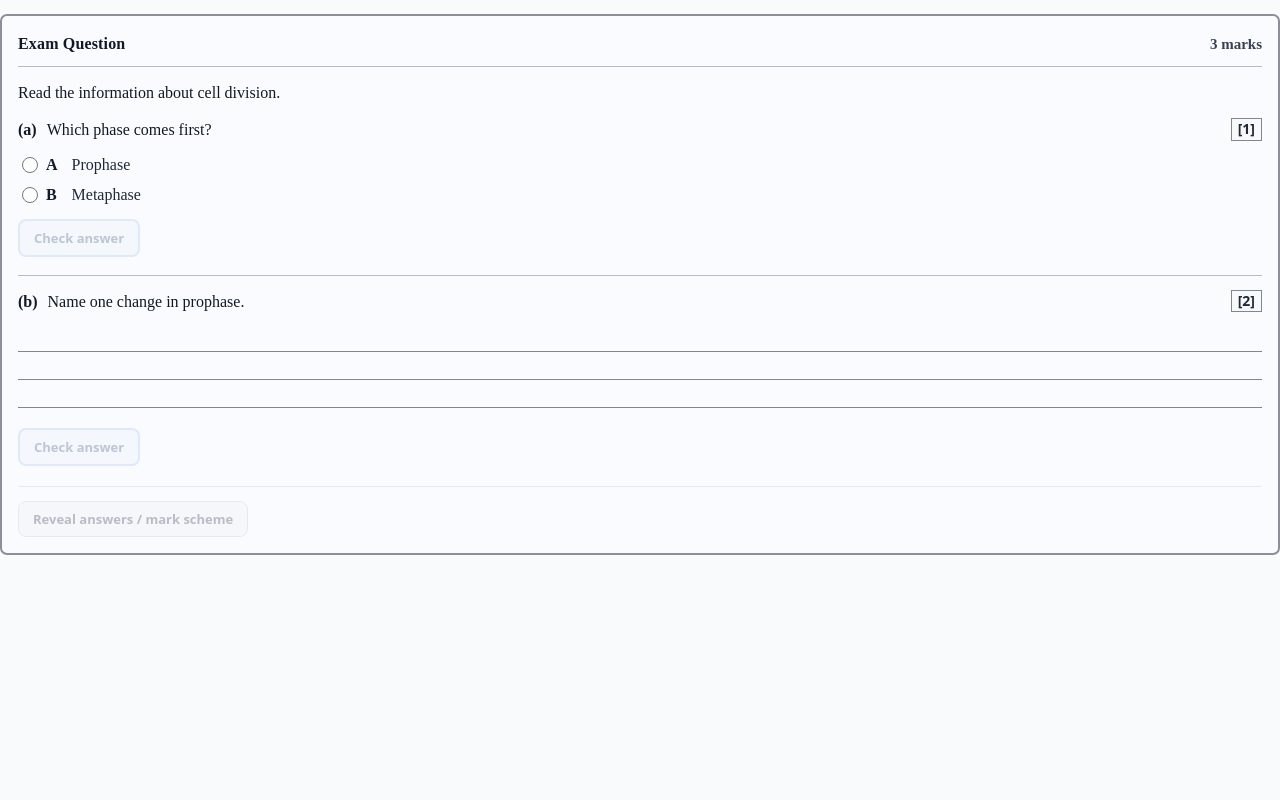
it: ExamQuestionBlock composite question marking › part (a) MCQ marks correctly with per-part feedback
What coordinates should you click on to do the following:
click the radio button labelled "A Prophase"
I would click on:
 (30, 165)
Its box is [22,157,38,173].
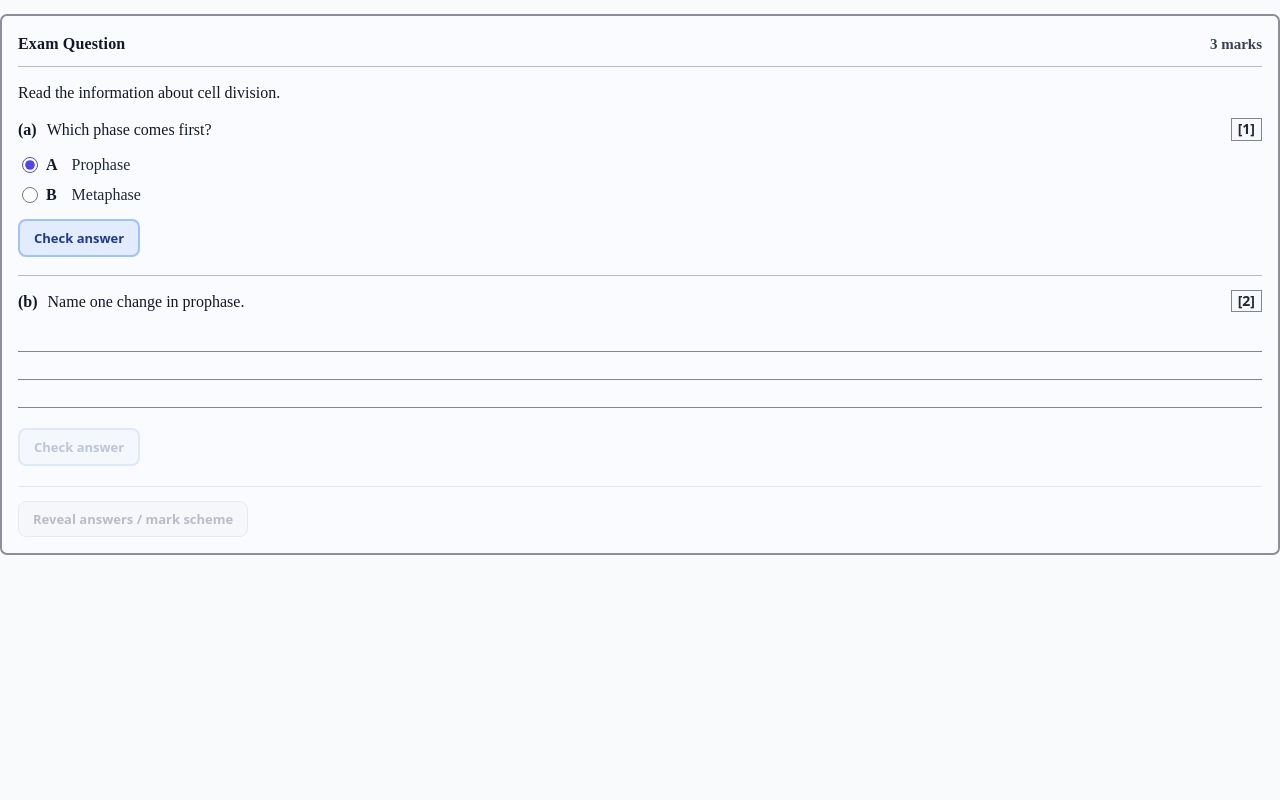
What coordinates should you click on to do the following:
click the button "Check answer" below "Metaphase"
I would click on:
 (79, 238)
Its box is [18,219,140,257].
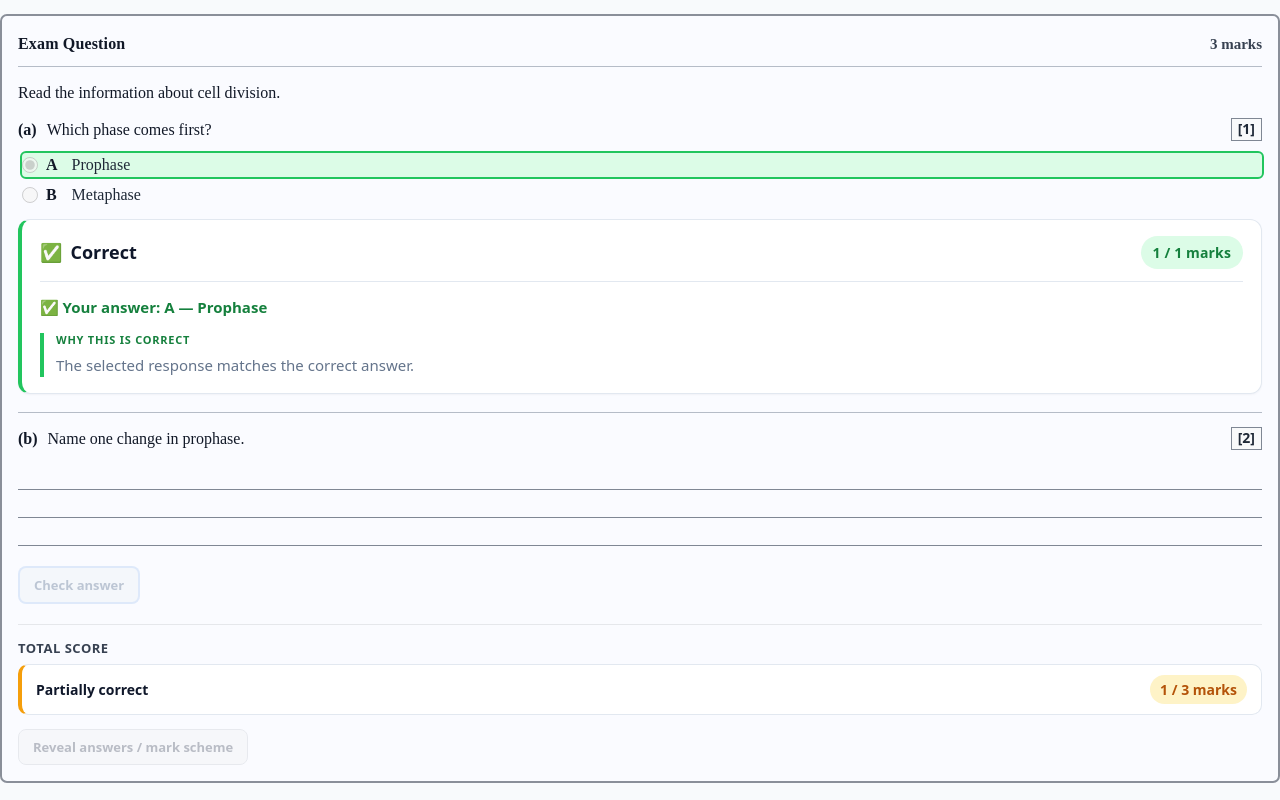
Expected: the element with test id "exam-composite-part-marking-0" is shown, [18,219,1262,394]
Expected: the text with test id "answer-feedback-score-badge" reads "1 / 1 marks", [1140,236,1243,269]
Expected: the element with test id "exam-composite-total-score" shows "1 / 3 marks", [18,639,1262,715]
